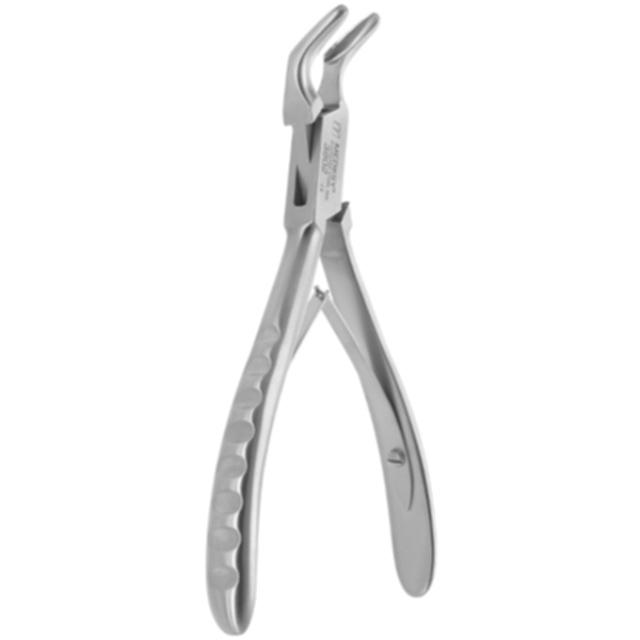gubia: (204, 3, 440, 639)
